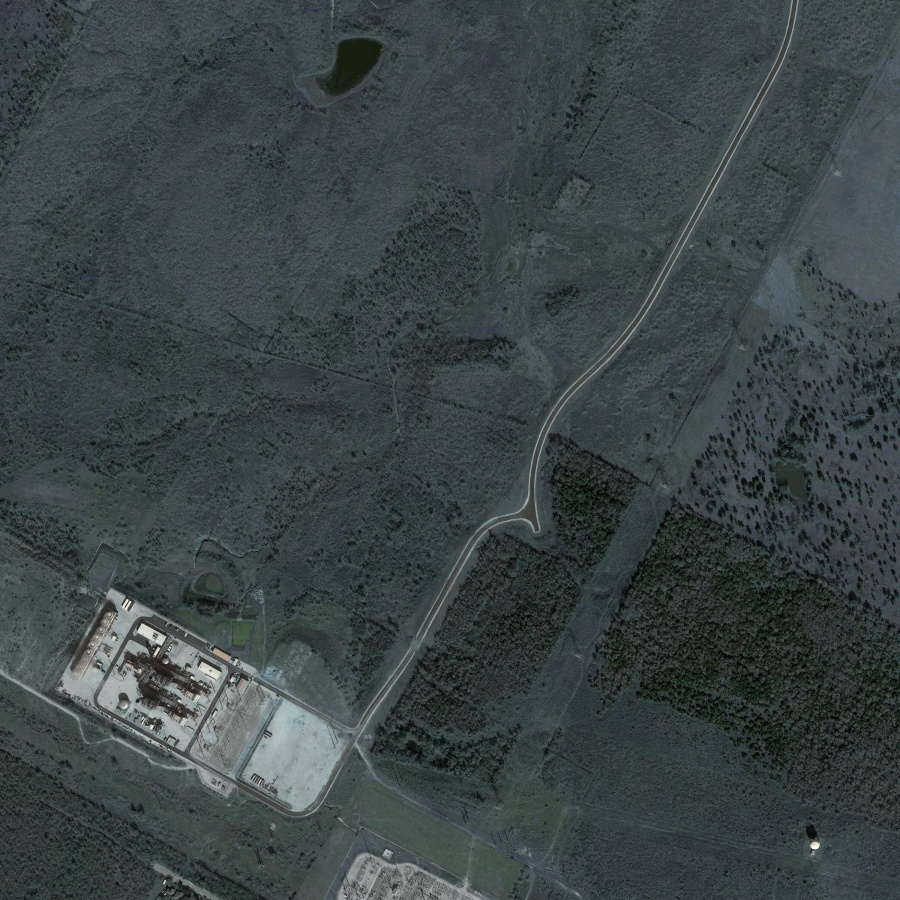PowerPlant: (61, 591, 271, 781)
